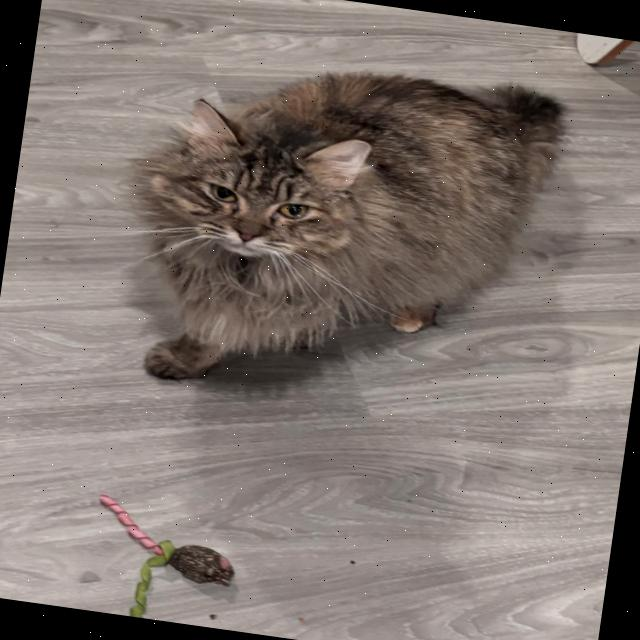persian_cat: (122, 73, 394, 298)
